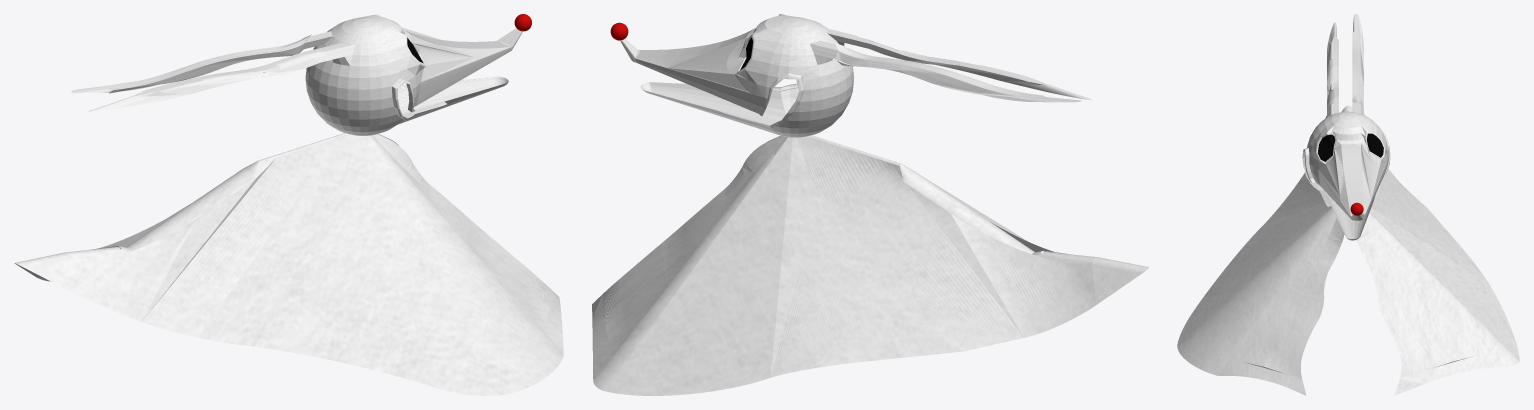
The model's file is perroalv.obj.
The picture shows the model from 3 angles, left to right: view 1: azimuth 30°, elevation 25°; view 2: azimuth 150°, elevation 25°; view 3: azimuth 270°, elevation 25°; orthographic projection. The views are drawn at different scales.
Visible parts, largest first — view 1: Plane, Sphere; view 2: Plane, Sphere; view 3: Plane, Sphere.
Boxes of the visible parts, x1=… form: Plane: x1=14, y1=133, x2=563, y2=395; Sphere: x1=71, y1=14, x2=531, y2=135; Plane: x1=592, y1=135, x2=1148, y2=395; Sphere: x1=610, y1=14, x2=1091, y2=137; Plane: x1=1177, y1=105, x2=1519, y2=395; Sphere: x1=1302, y1=14, x2=1390, y2=240.
Bounding box in the file's own units: 14.67 × 7.94 × 11.22.
